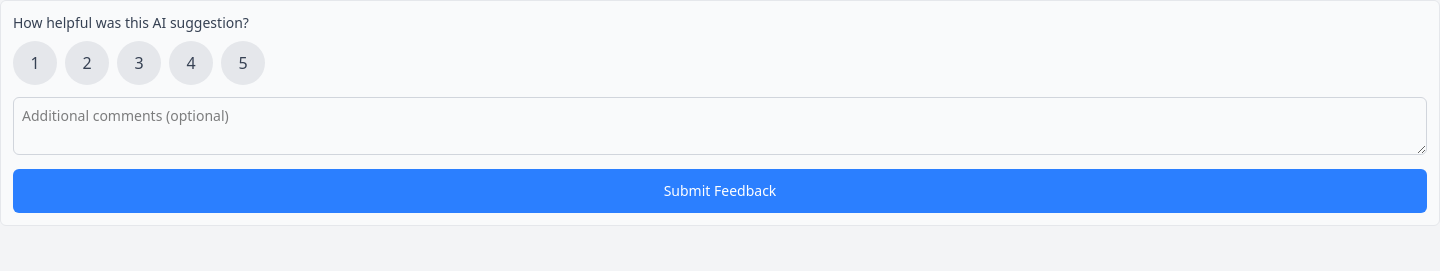
it: AIFeedback Component › handles submission errors
The width and height of the screenshot is (1440, 271).
Note: Select a rating
Click the button with test id "test-feedback-rating-3" at point(139, 63), box [117,41,161,85]
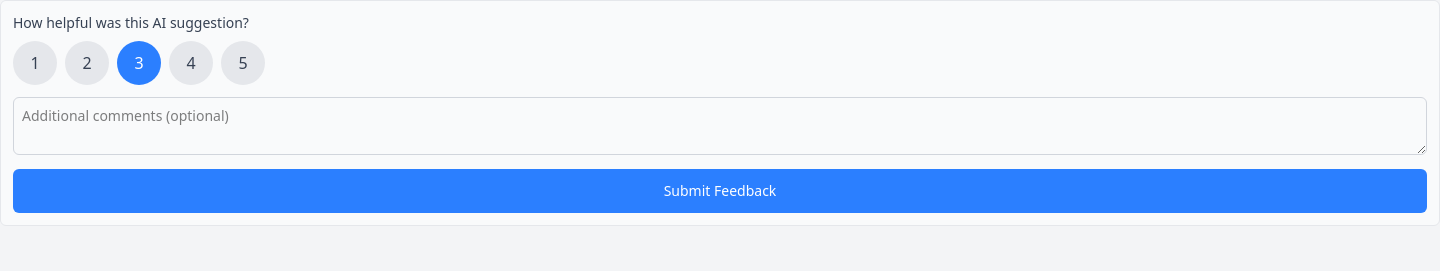
Note: Submit the feedback
Click the button with test id "test-feedback-submit" at point(720, 191), box [13,169,1427,213]
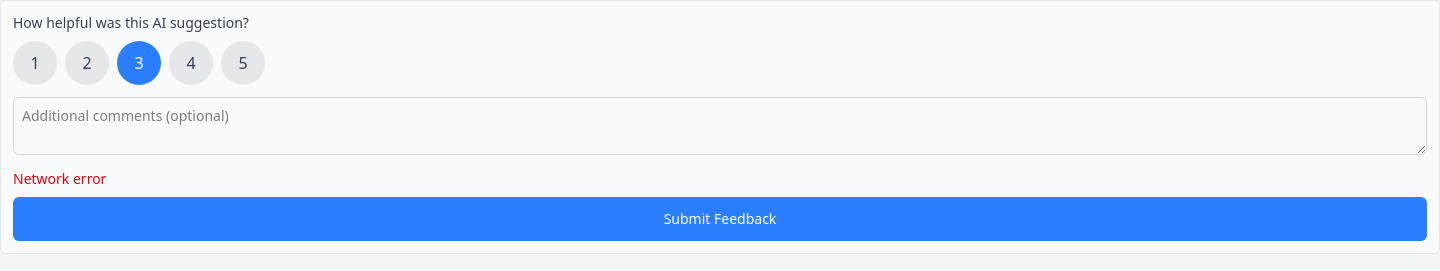
Check: the button with test id "test-feedback-submit" is shown, box [13,197,1427,241]
Check: the text "Network error" is shown, box [13,169,106,188]
